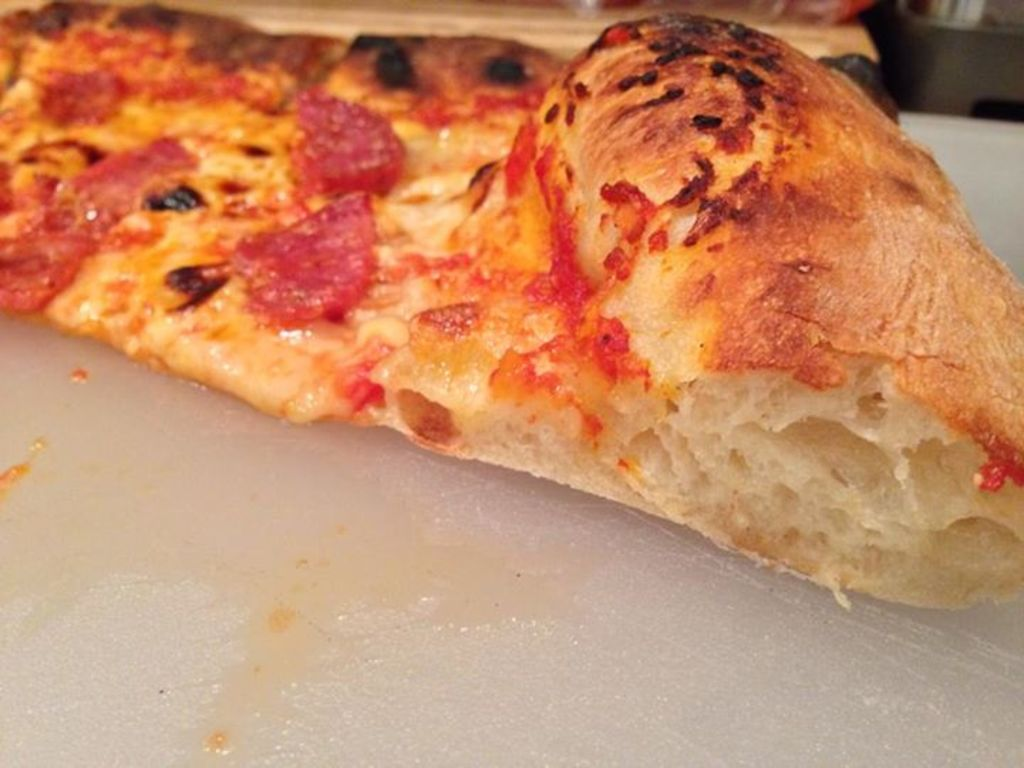Pizza: (0, 36, 1014, 647)
